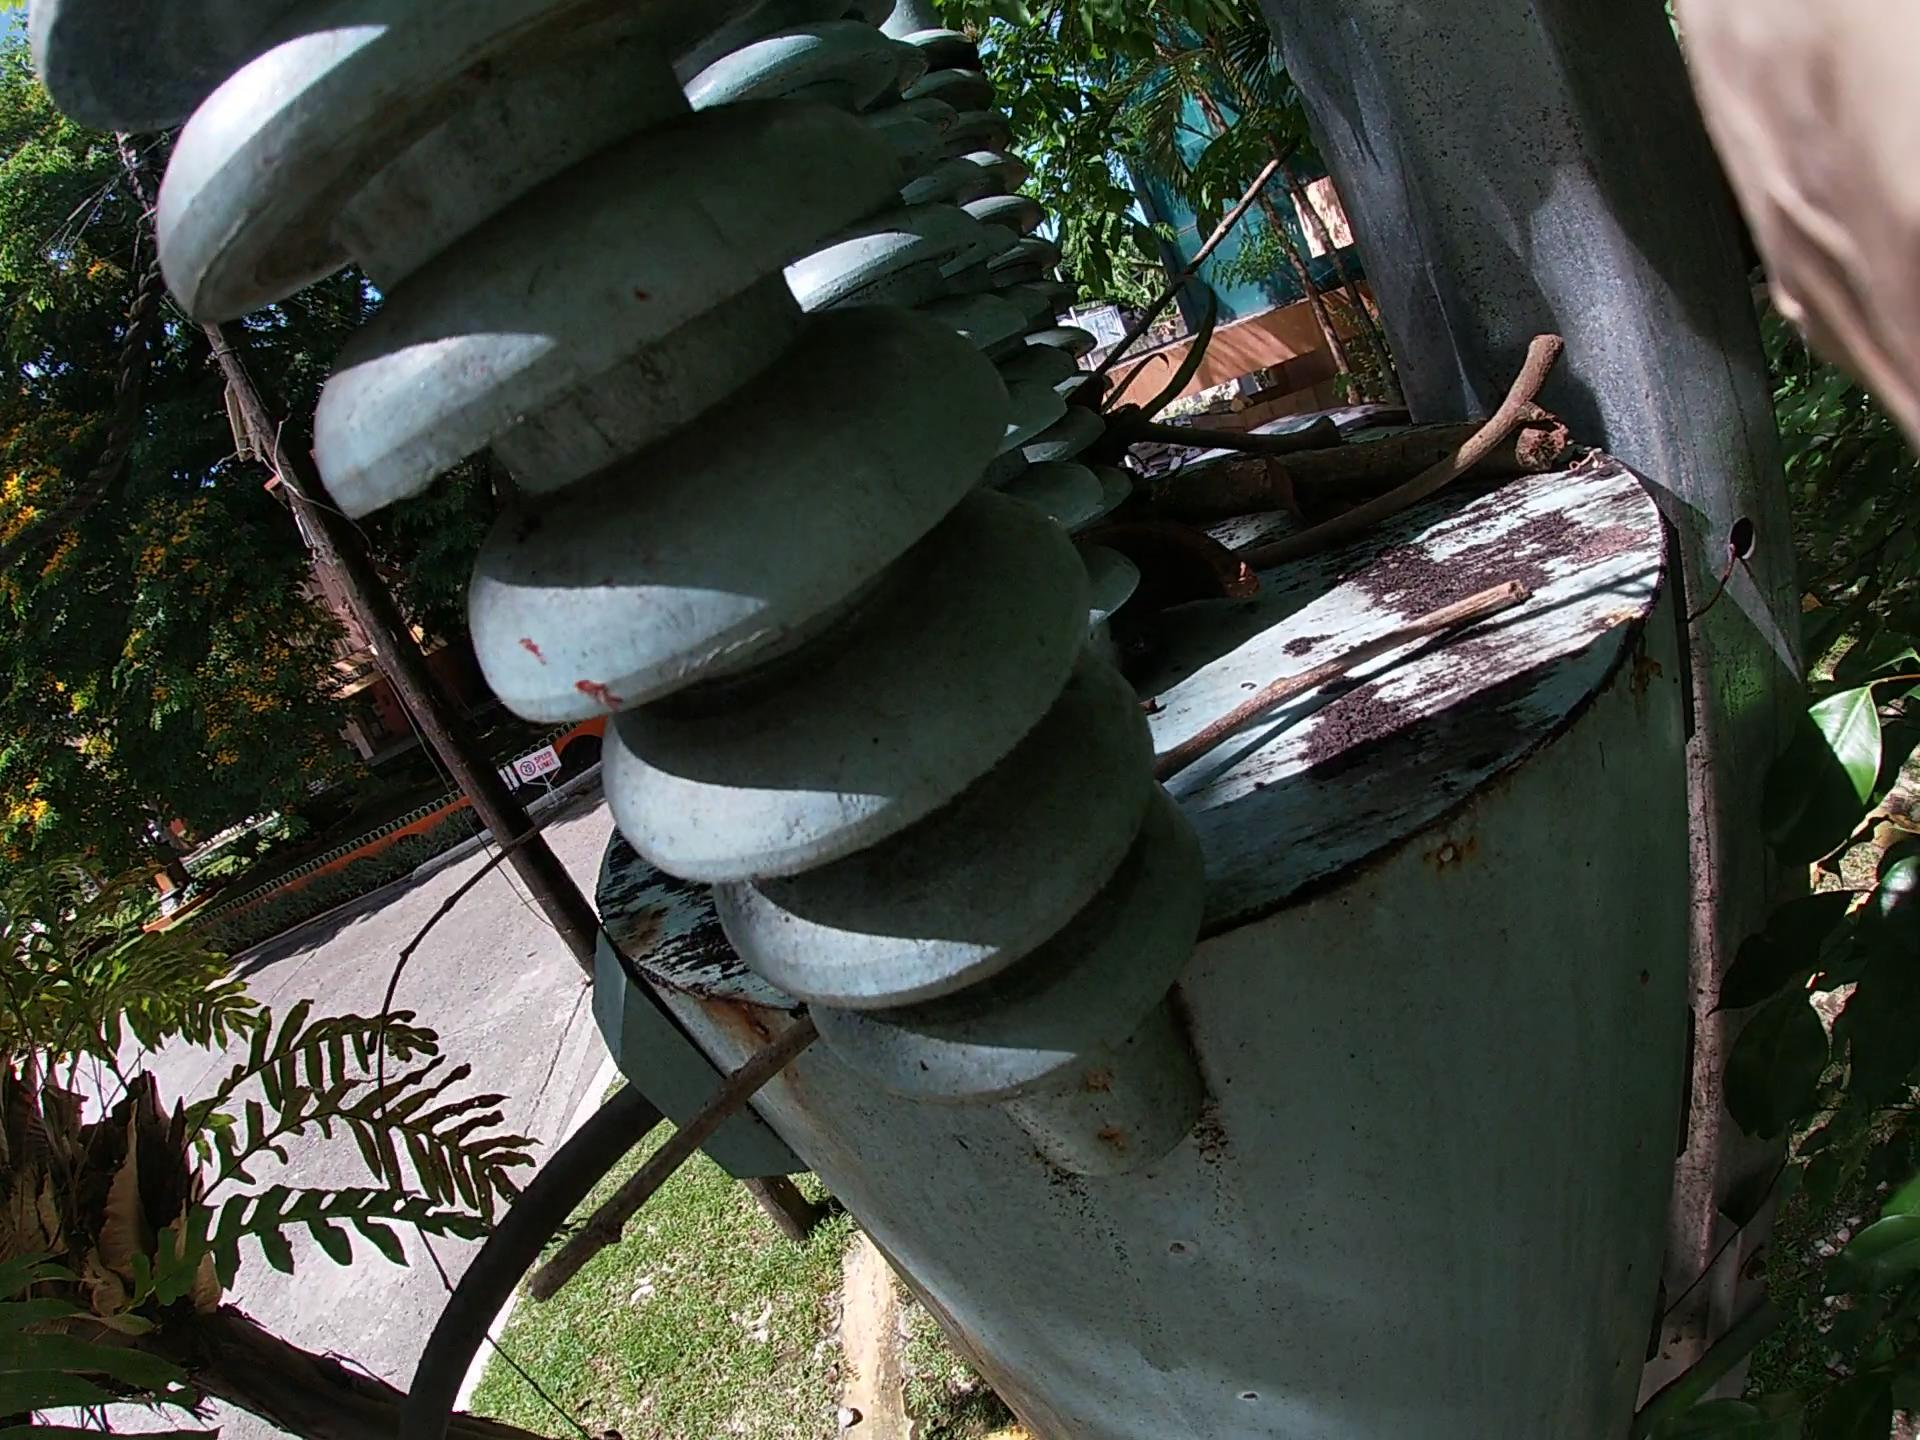branch with leaves: (1104, 414, 1534, 564)
mahogany fruit: (1095, 446, 1243, 690)
tree branch: (417, 180, 1297, 1186), (562, 563, 1519, 1299), (1170, 309, 1577, 629)
